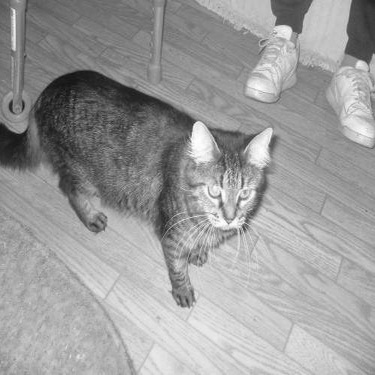cat: (17, 67, 275, 310)
